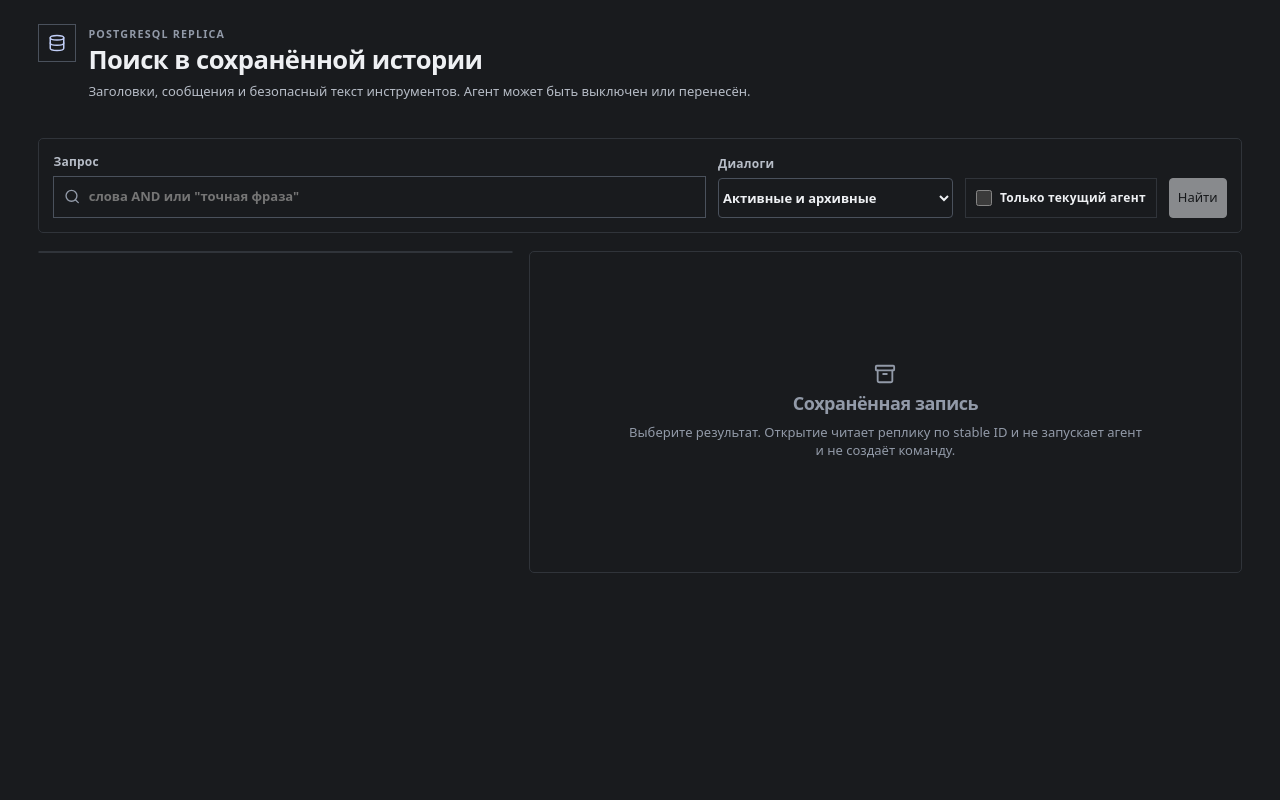
it: agent-search-v1 browser consumer › does not silently restart an expired snapshot
Type "кириллица exact-id" into the field labelled "Запрос".
click(392, 197); type("кириллица exact-id")  # box x1=89 y1=177 x2=695 y2=217
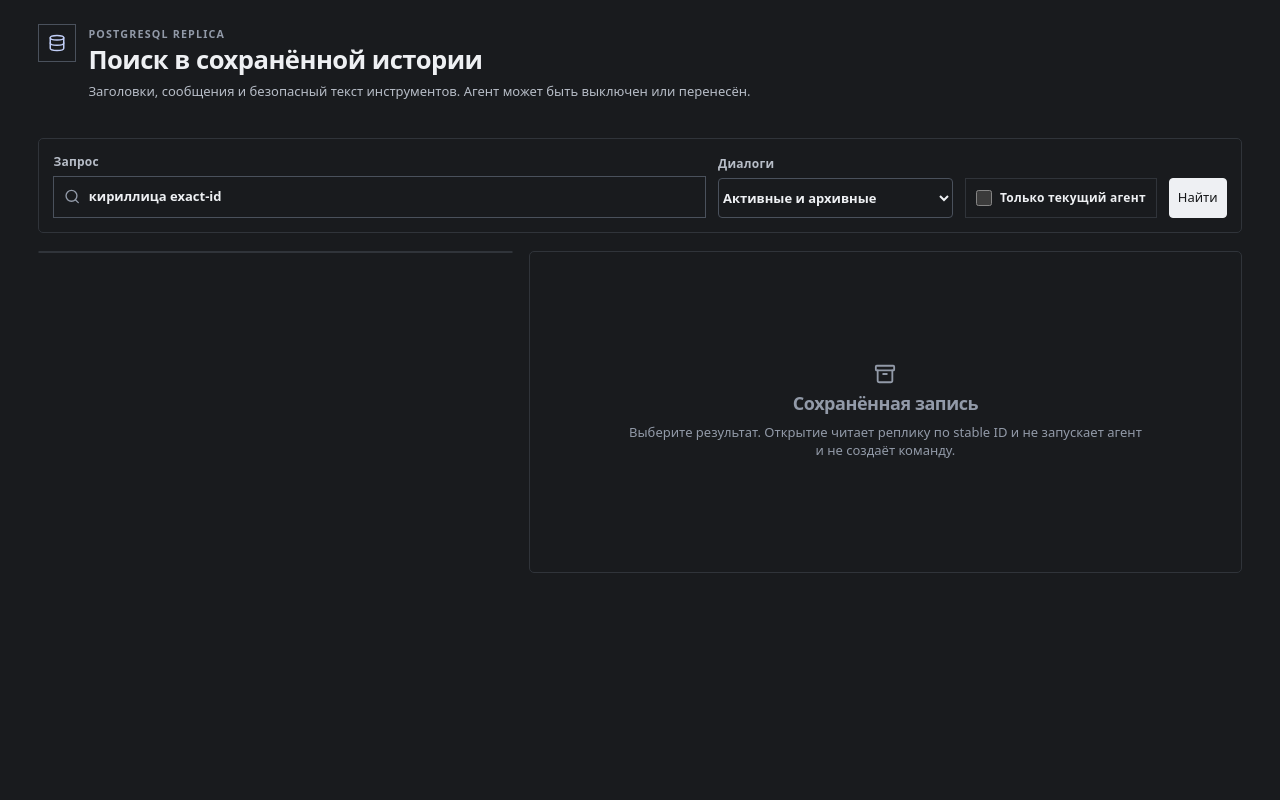
Click the button "Найти".
click(1198, 198)  # box x1=1169 y1=178 x2=1227 y2=218
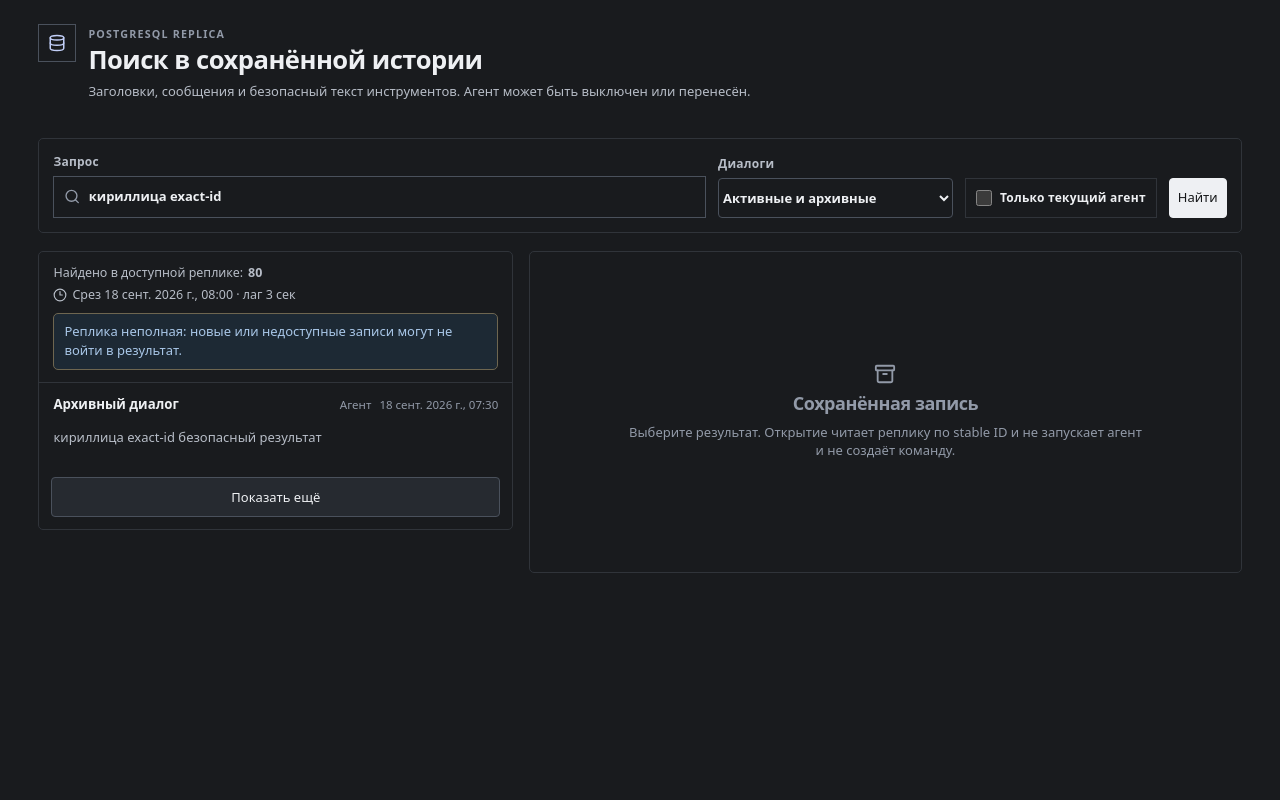
Click the button "Показать ещё".
click(276, 497)  # box x1=51 y1=477 x2=500 y2=517
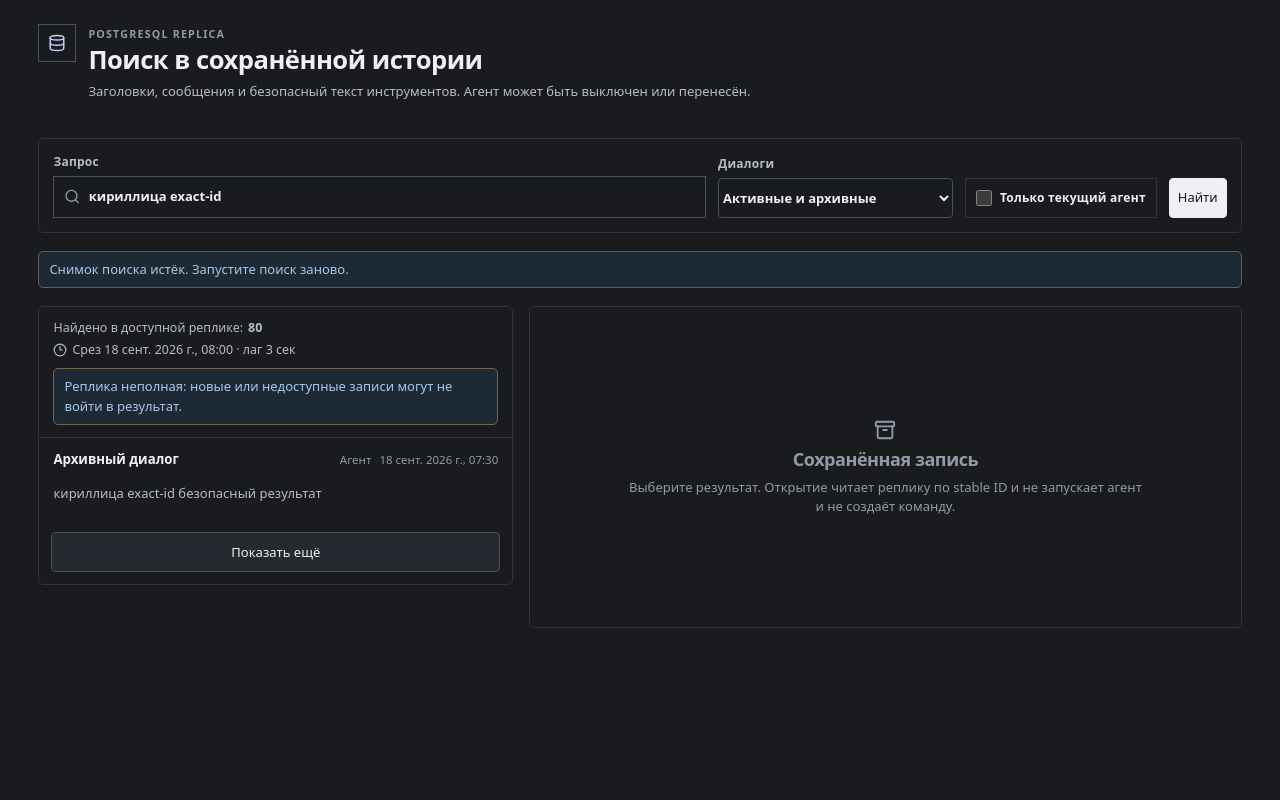
Now the text "Снимок поиска истёк. Запустите поиск заново." is shown, box x1=38 y1=251 x2=1242 y2=288
